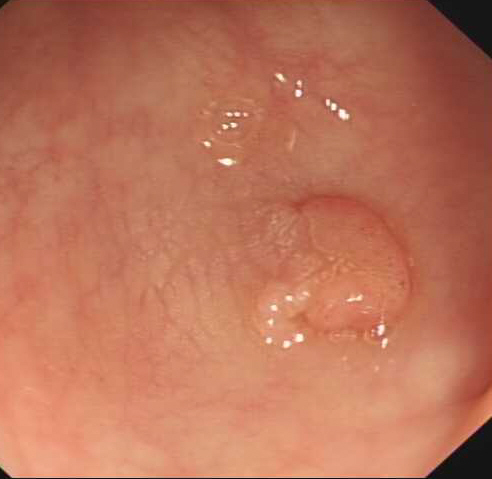others: (244, 194, 415, 337)
